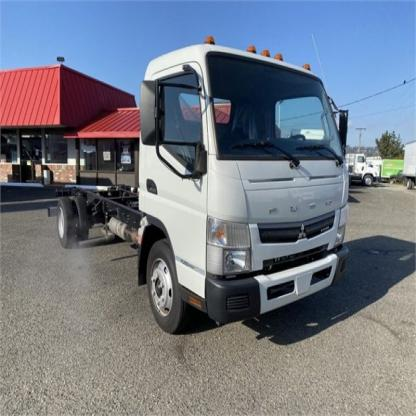truck: (48, 38, 350, 337)
